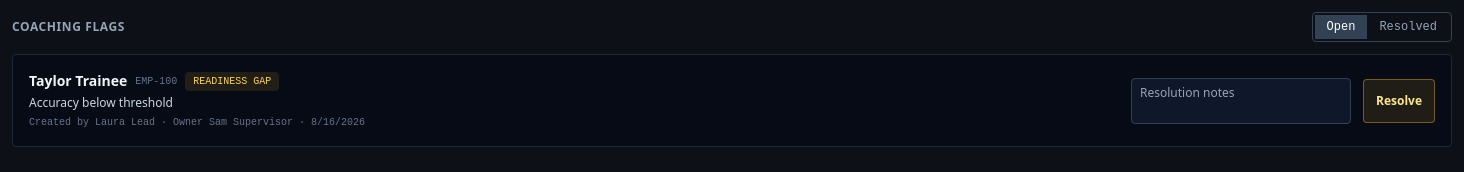
Test: CoachingFlagQueue › resolves an open flag with Supervisor notes
Expected: the link "Taylor Trainee" is shown, [29,71,127,91]
Type "Observed successful correction" into the text box with placeholder "Resolution notes" at coordinates (1241, 100), box [1131,78,1351,124]
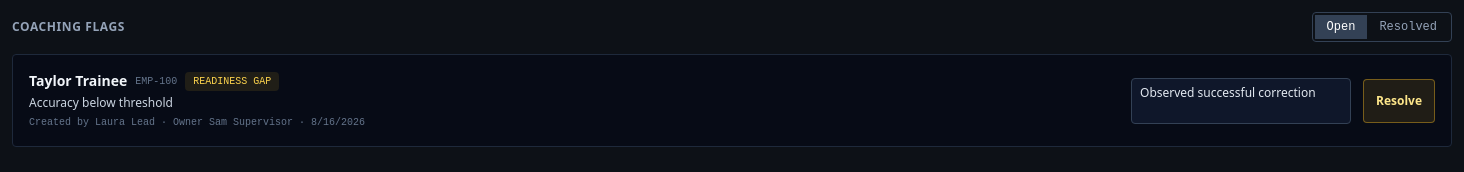
Click the button "Resolve" at coordinates (1399, 100), box [1363,78,1435,122]
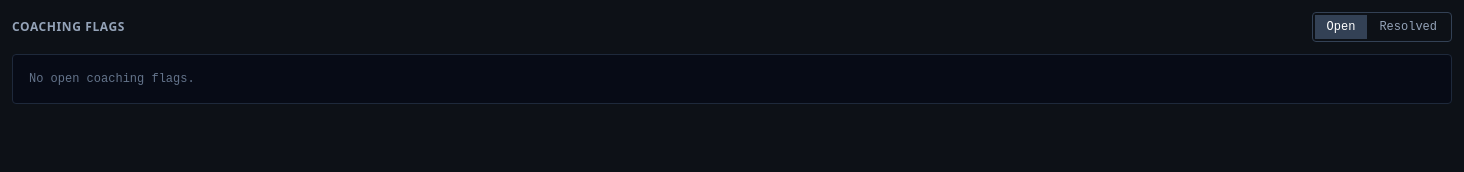
Expected: the text "No open coaching flags." is shown, [29,72,195,86]
